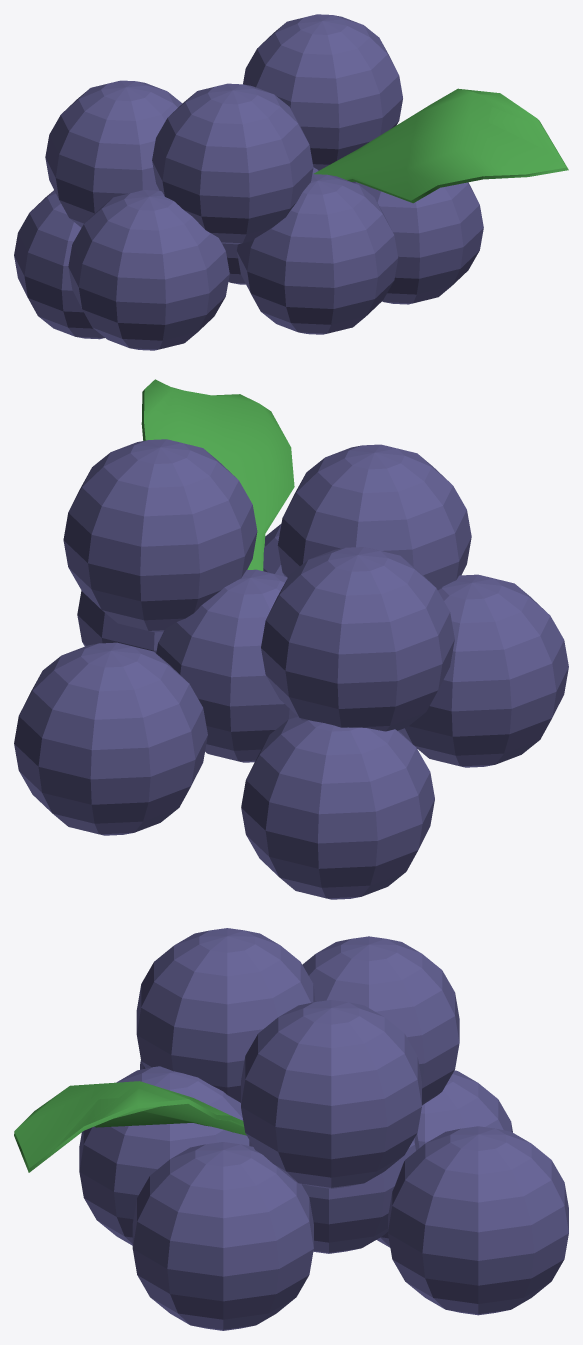
Rendered from blue berries.fbx.
3 renders of one model, top to bottom at view 1: azimuth 30°, elevation 25°; view 2: azimuth 150°, elevation 25°; view 3: azimuth 270°, elevation 25°, orthographic. The views are drawn at different scales.
Visible parts, largest first — view 1: blue_berries; view 2: blue_berries; view 3: blue_berries.
Boxes of the visible parts, x1=… form: blue_berries: x1=14, y1=14, x2=568, y2=350; blue_berries: x1=14, y1=379, x2=568, y2=899; blue_berries: x1=14, y1=928, x2=568, y2=1330.
Bounding box in the file's own units: 6.9 × 4.81 × 6.99.
